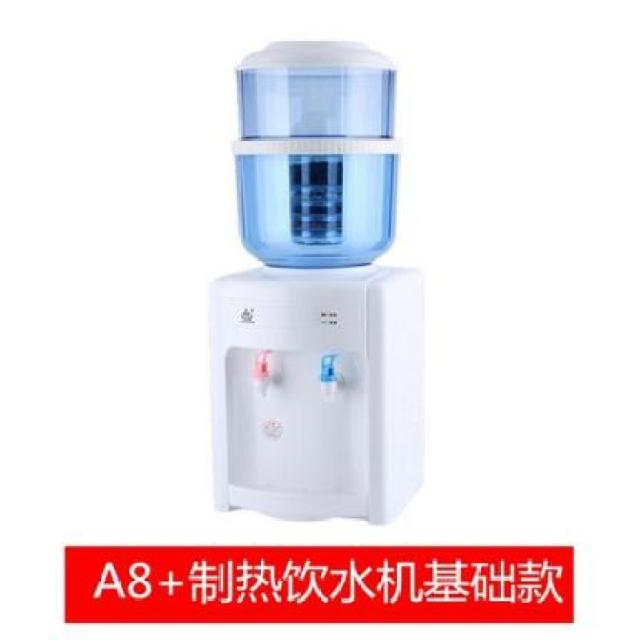coolerbottle: (231, 37, 399, 274)
